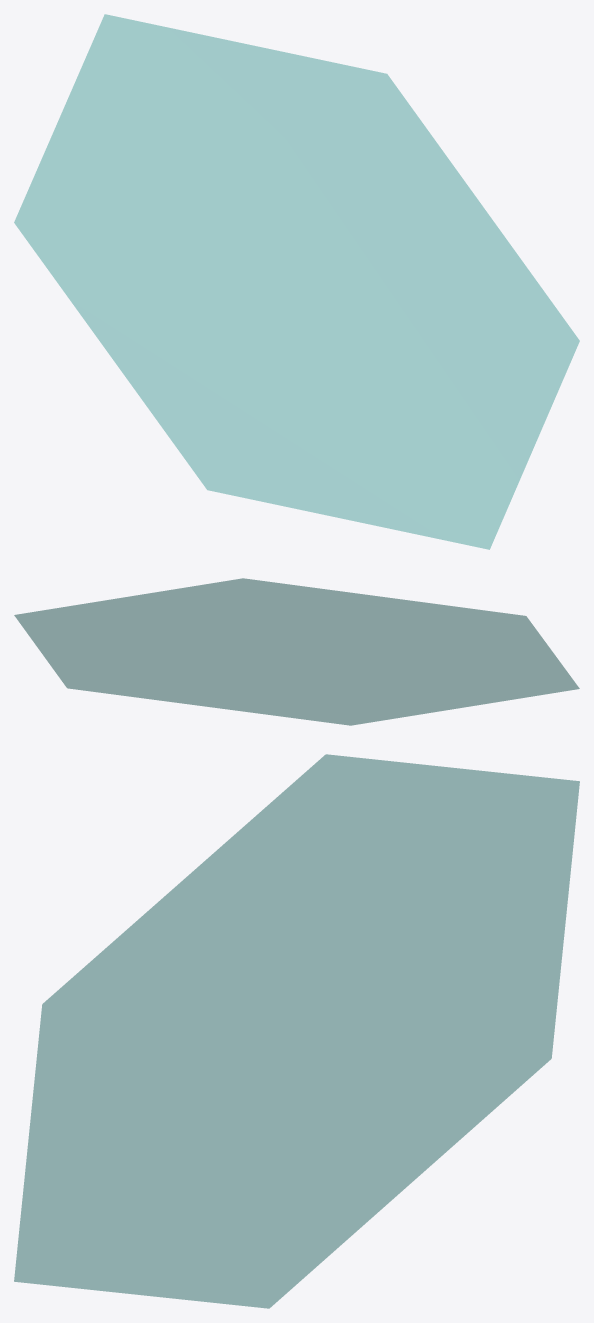
Rendered from p_ex5c_hexagono.glb.
3 renders of one model, top to bottom at view 1: azimuth 30°, elevation 25°; view 2: azimuth 150°, elevation 25°; view 3: azimuth 270°, elevation 25°, orthographic. The views are drawn at different scales.
Bounding box in the file's own units: 5.69 × 3.85 × 4.61.
